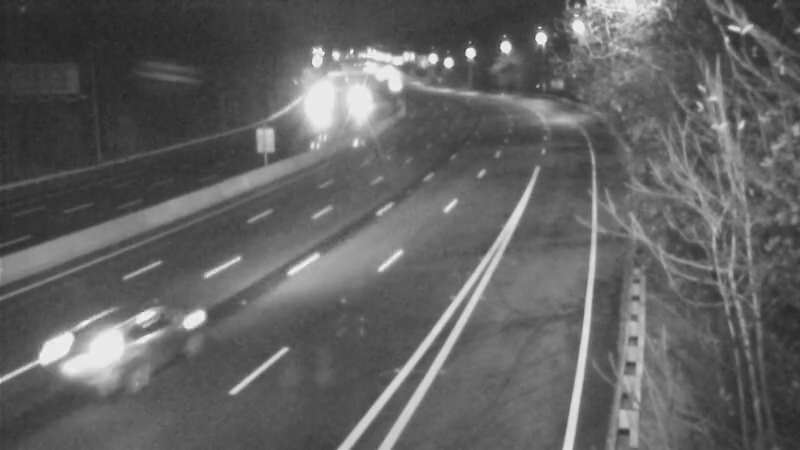vehicle: (58, 298, 168, 408), (370, 58, 420, 108), (291, 80, 341, 130), (331, 76, 381, 126)
